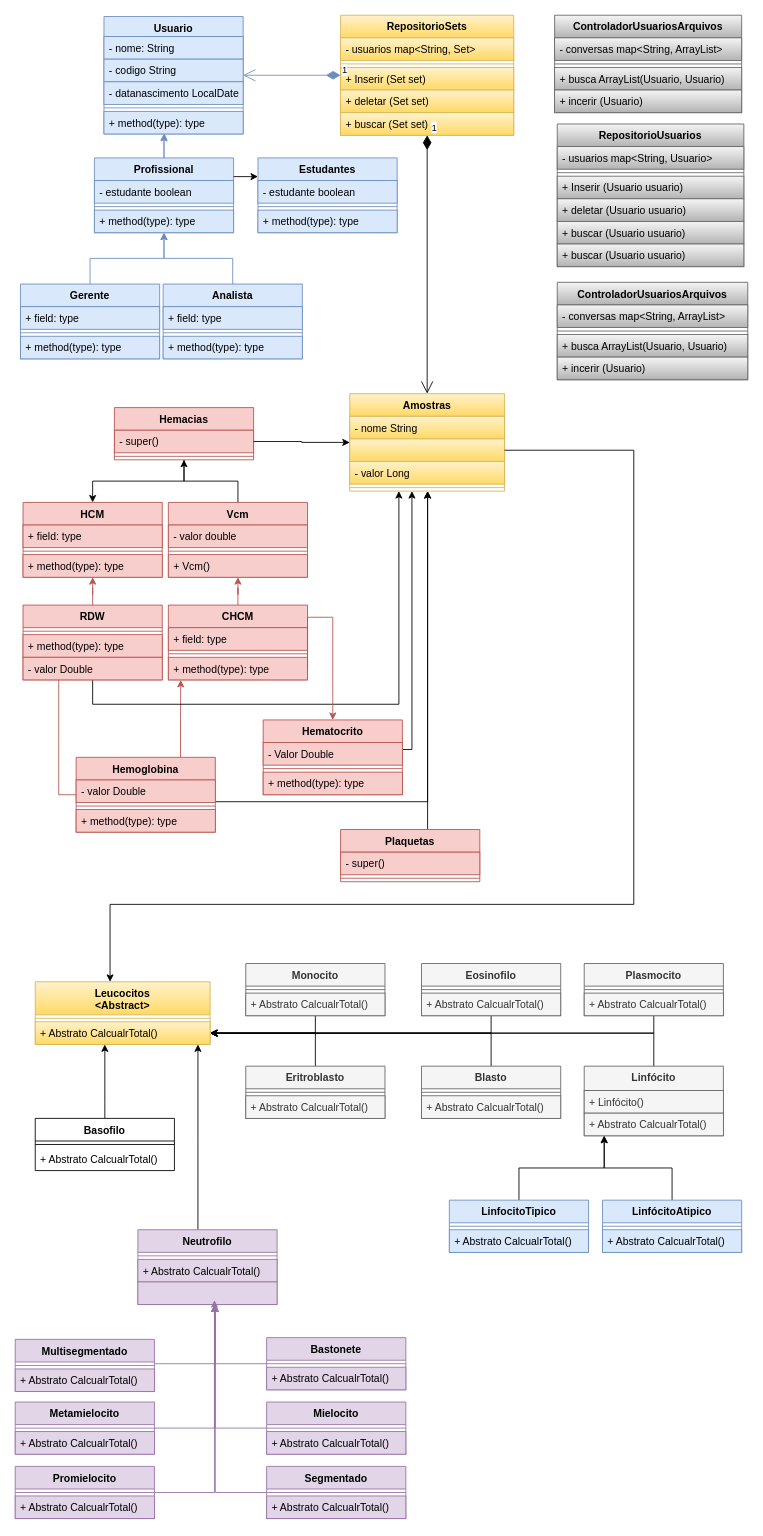
The diagram is 763 pixels wide and 1536 high, and some of its shapes have lost their labels. The shapes that lost their labels are listed below. From the top down, each one's centre as x and y in pixels, then its label:
At point (427, 450): "- descricao String".
At point (207, 1293): "+ Neutrofilo()".
